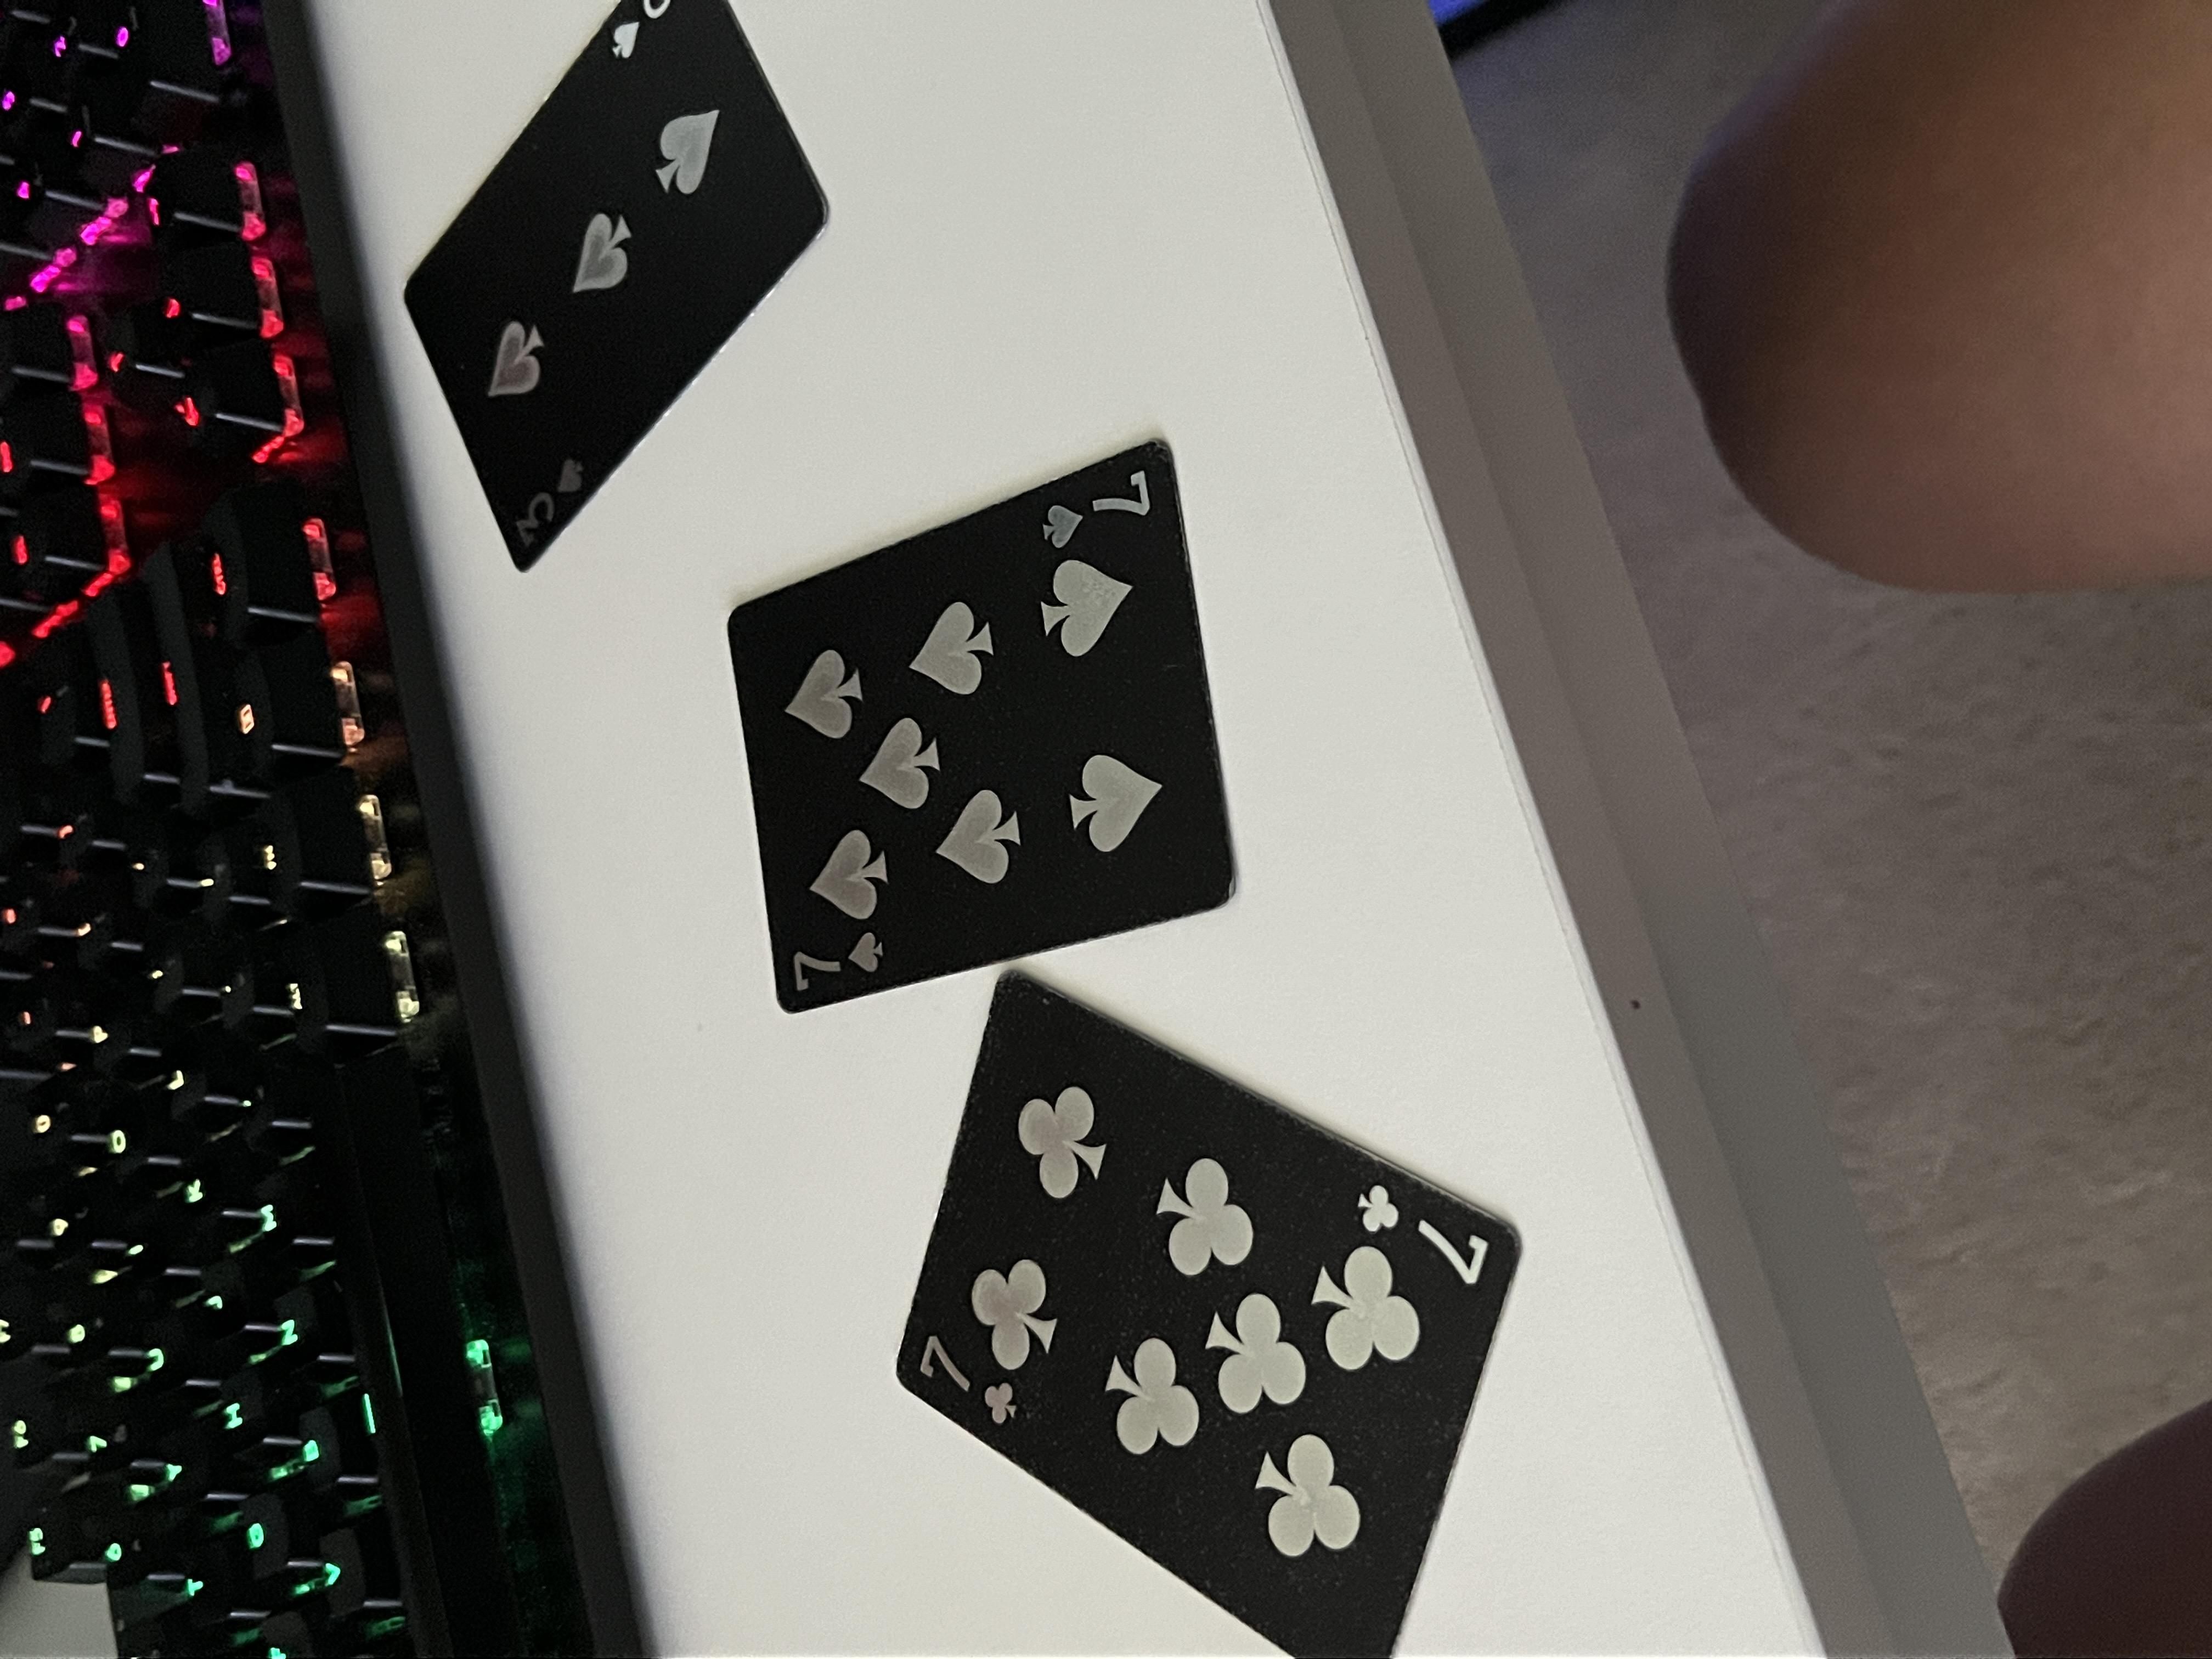3S: (1474, 380, 1609, 450), (2114, 446, 2212, 521)
7C: (491, 1016, 627, 1119), (314, 678, 432, 763)
7S: (1474, 774, 1618, 875), (885, 591, 979, 664)
